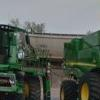Tractor: (2, 17, 52, 100)
